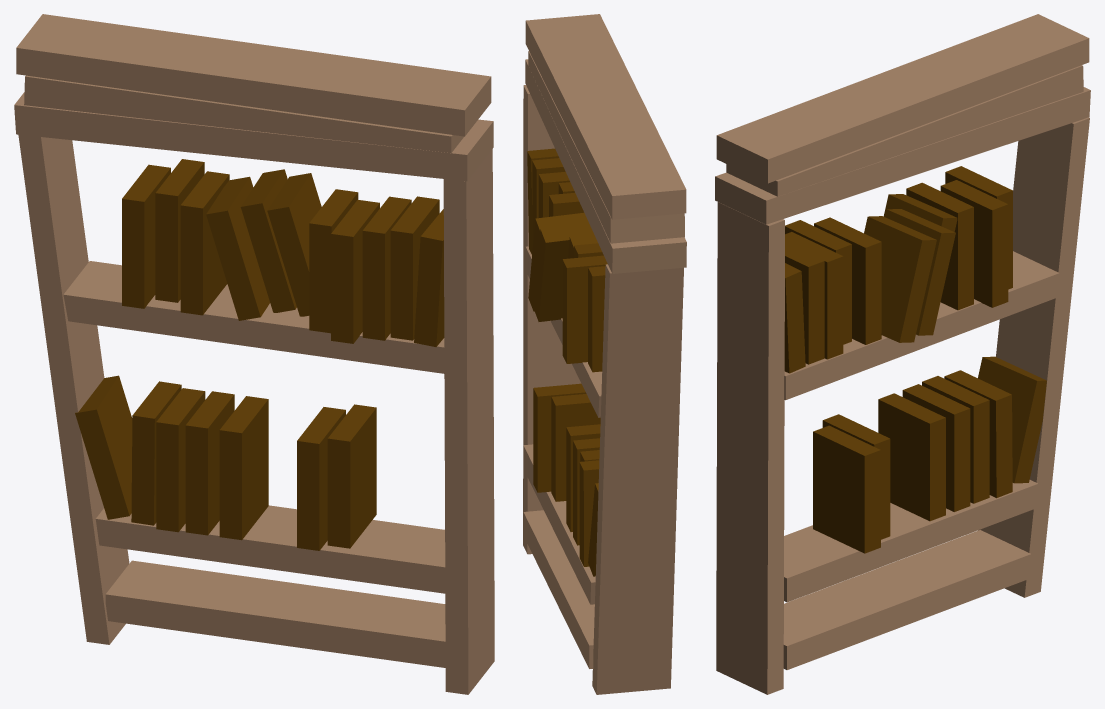
Rendered from Mueble_para_el_pinche_marco_00.fbx.
3 views of the same model, side by side, from view 1: azimuth 30°, elevation 25°; view 2: azimuth 150°, elevation 25°; view 3: azimuth 270°, elevation 25° (orthographic). The views are drawn at different scales.
Parts seen in each view (by area): view 1: Estructura_Copia_Librero_pCube7, Estructura_Copia_Libros_Libros__libreo_Libro7; view 2: Estructura_Copia_Librero_pCube7, Estructura_Copia_Libros_Libros__libreo_Libro7; view 3: Estructura_Copia_Librero_pCube7, Estructura_Copia_Libros_Libros__libreo_Libro7.
Part boxes in pixels (<box>): Estructura_Copia_Librero_pCube7: <box>14,14,494,694</box>; Estructura_Copia_Libros_Libros__libreo_Libro7: <box>75,159,444,550</box>; Estructura_Copia_Librero_pCube7: <box>523,14,686,694</box>; Estructura_Copia_Libros_Libros__libreo_Libro7: <box>527,148,607,576</box>; Estructura_Copia_Librero_pCube7: <box>715,14,1090,694</box>; Estructura_Copia_Libros_Libros__libreo_Libro7: <box>784,166,1046,553</box>.
Bounding box in the file's own units: 81.03 × 137 × 87.21.
